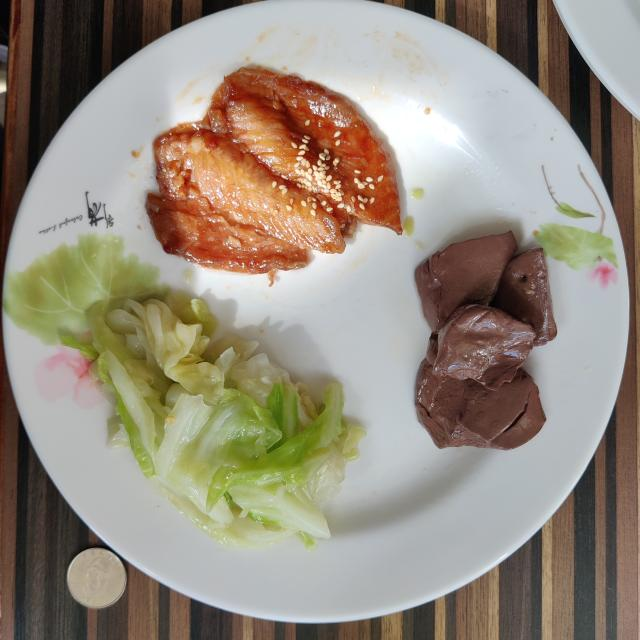Kabayaki sea bream fillet: (146, 68, 402, 274)
cabbage: (60, 286, 365, 549)
coin: (66, 548, 126, 609)
pig blood curd: (415, 231, 558, 450)
